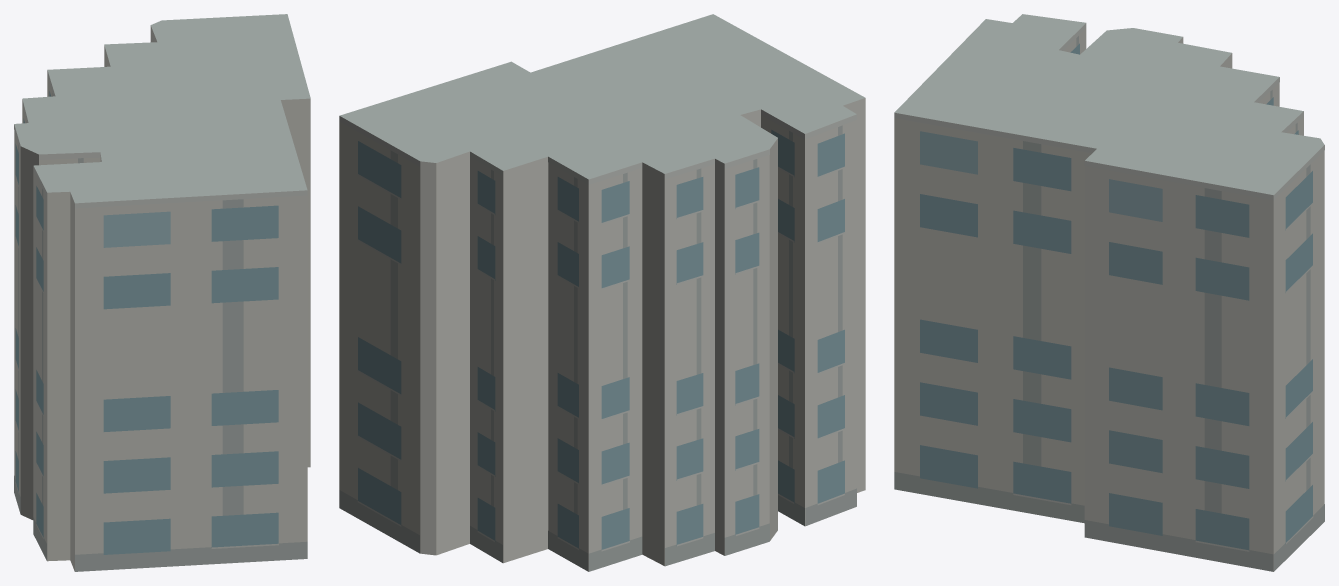
Rendered from survey-upis-32522911.glb.
3 renders of one model, left to right at view 1: azimuth 30°, elevation 25°; view 2: azimuth 150°, elevation 25°; view 3: azimuth 270°, elevation 25°, orthographic. The views are drawn at different scales.
Visible parts, largest first — view 1: survey-upis-32522911.tmp; view 2: survey-upis-32522911.tmp; view 3: survey-upis-32522911.tmp.
Part boxes in pixels (<box>): survey-upis-32522911.tmp: <box>14,14,310,571</box>; survey-upis-32522911.tmp: <box>339,14,865,571</box>; survey-upis-32522911.tmp: <box>894,14,1324,571</box>.
Bounding box in the file's own units: 17.55 × 17 × 17.62.
